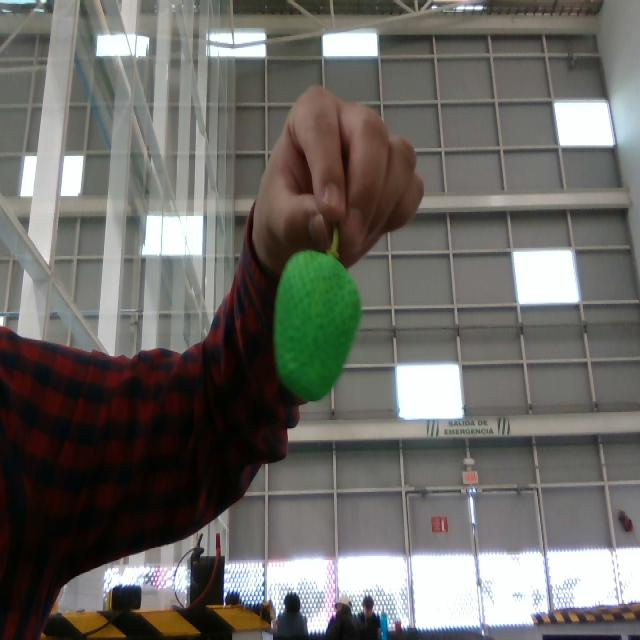verde: (273, 247, 363, 402)
